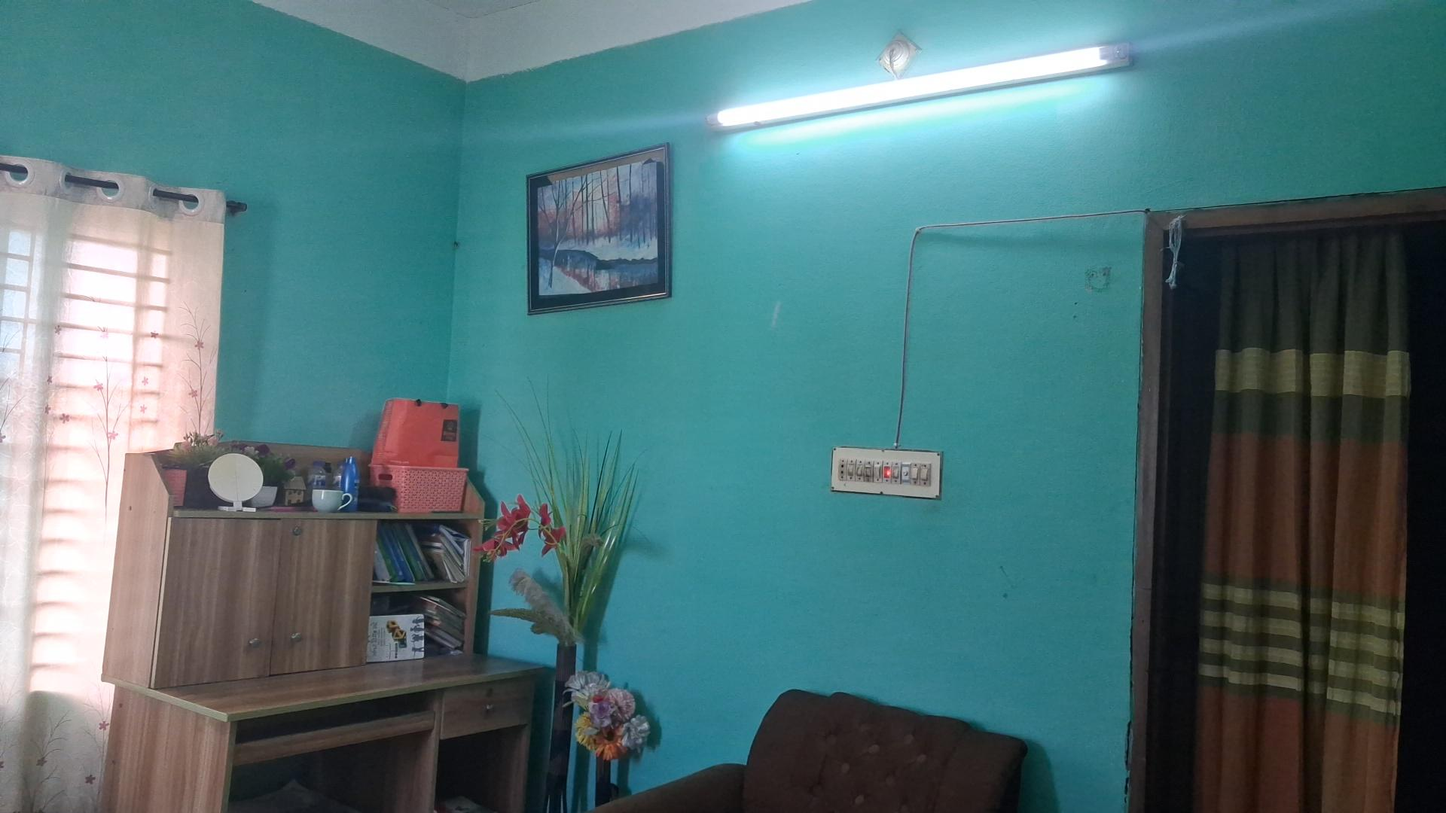Basket: (524, 146, 678, 318), (370, 457, 468, 517)
Bottle: (342, 457, 359, 509)
Cup: (310, 486, 353, 519)
Door: (1135, 201, 1444, 810)
Drawer: (440, 679, 531, 746)
Light: (696, 29, 1135, 139)
Table: (117, 435, 524, 813)
